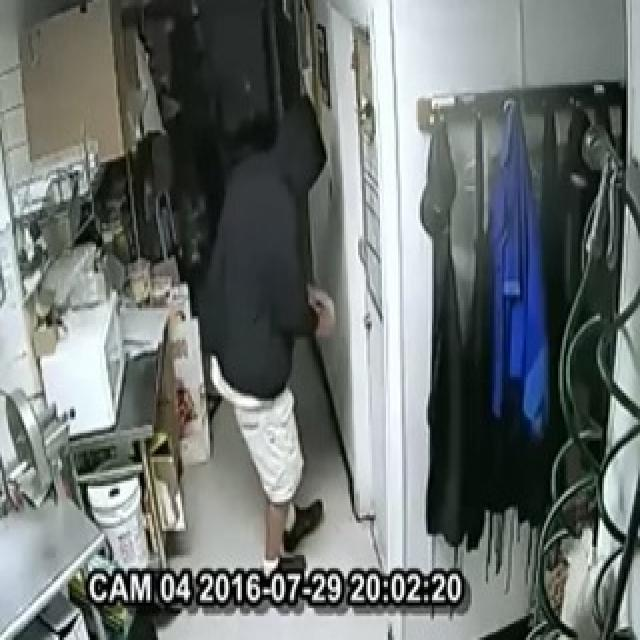thief: (204, 87, 339, 570)
